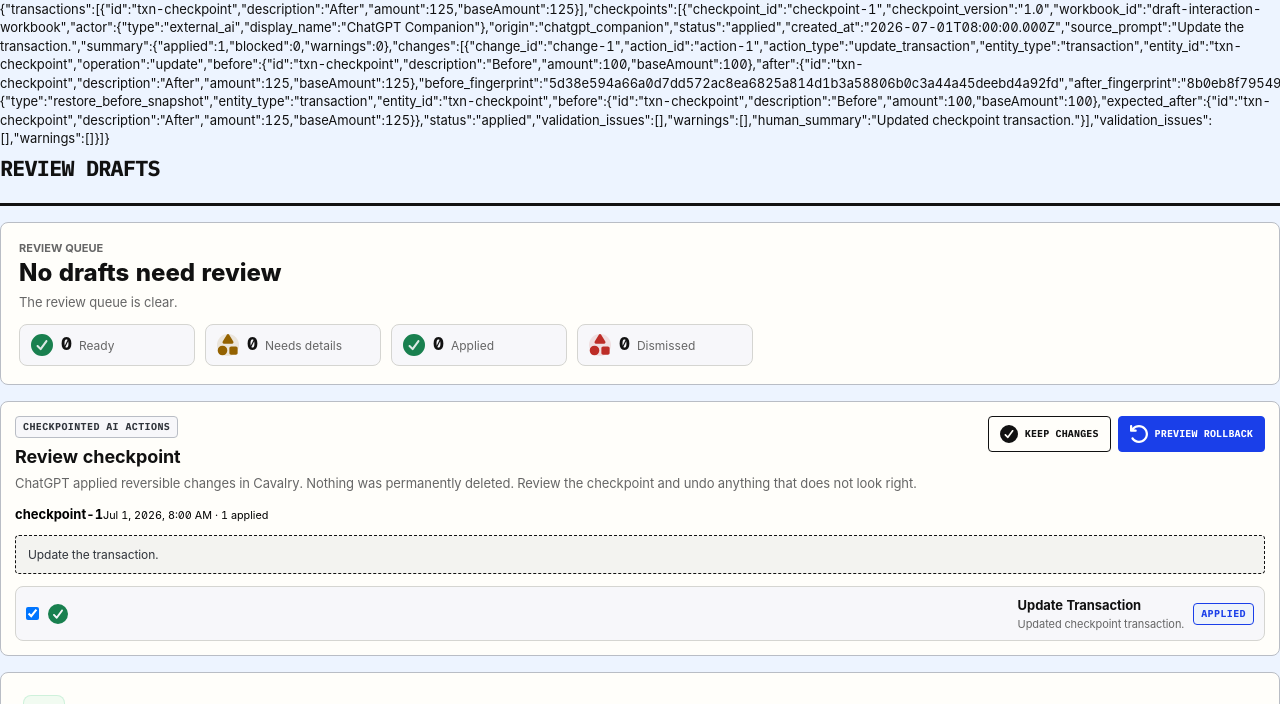
it: draft and checkpoint interactions › approves and rolls back selected checkpoint changes after preview
The image size is (1280, 704).
Step 1. Click the button "Keep Changes" → (1049, 434), box [988,416,1111,452]
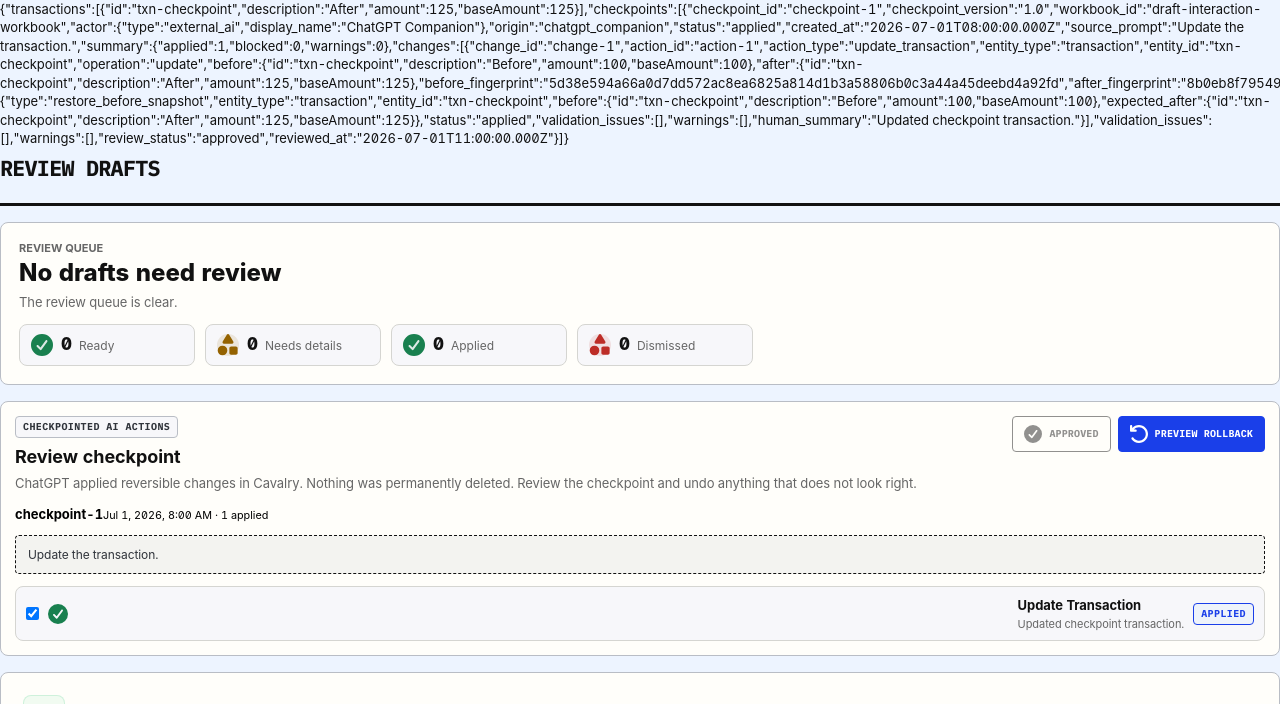
Expected: the button "Approved" is shown, [1012,416,1111,452]
Step 2. Click the button "Preview Rollback" → (1191, 434), box [1118,416,1265,452]
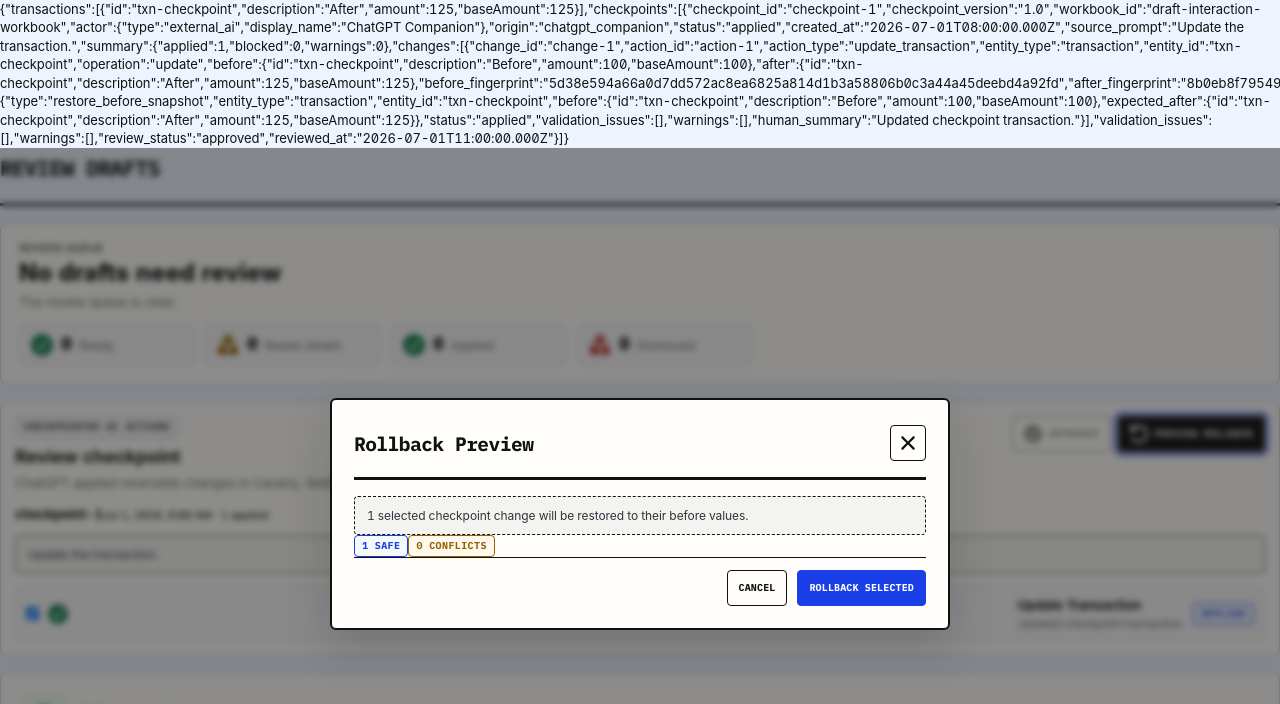
Expected: the text "1 safe" is shown, [354,535,408,557]
Step 3. Click the button "Rollback Selected" → (862, 588), box [797,570,926,606]
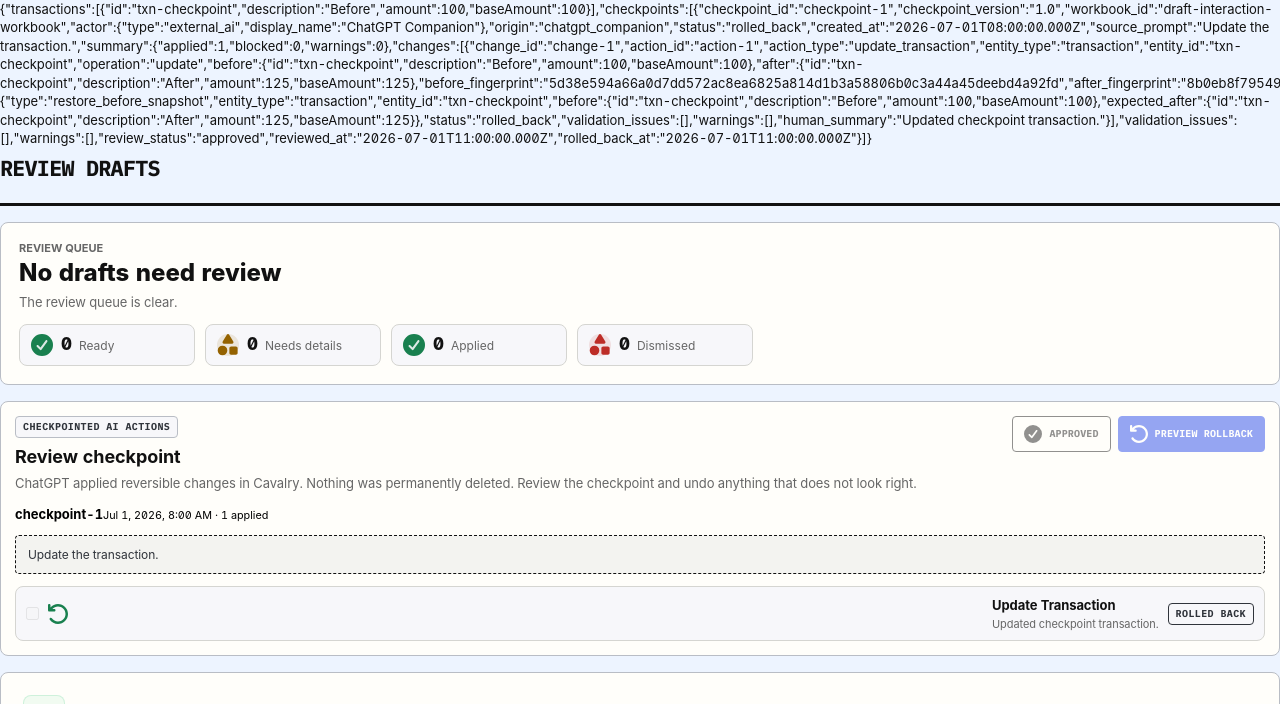
Expected: the text named "Draft workbook state" shows "Before", [0,1,1279,146]
